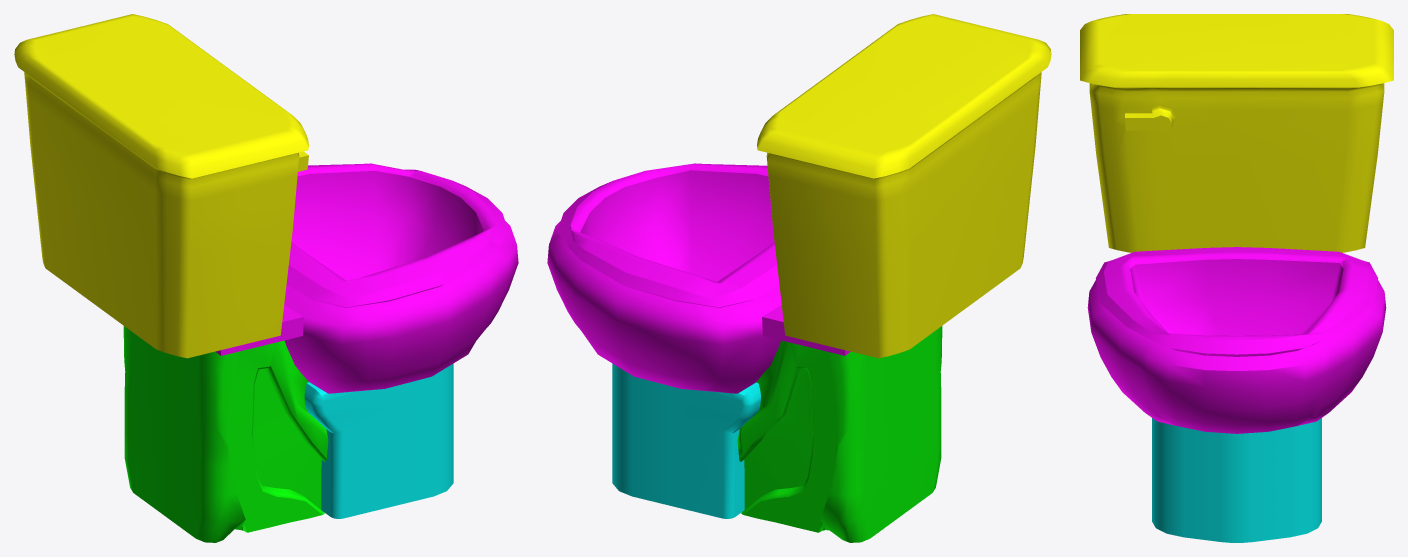
Rendered from King_Toilet.fbx.
The picture shows the model from 3 angles, left to right: view 1: azimuth 30°, elevation 25°; view 2: azimuth 150°, elevation 25°; view 3: azimuth 270°, elevation 25°; orthographic projection. The views are drawn at different scales.
Visible parts, largest first — view 1: Tank, Bowl, Backtubes2, Base; view 2: Tank, Bowl, Backtubes2, Base; view 3: Tank, Bowl, Base.
Part boxes in pixels (x1,y1,x2,y2): Tank: (14,14,308,358); Bowl: (215,163,518,393); Backtubes2: (123,326,328,542); Base: (304,363,453,518); Tank: (757,14,1051,358); Bowl: (547,163,850,393); Backtubes2: (737,326,942,542); Base: (612,363,760,518); Tank: (1080,14,1393,252); Bowl: (1087,247,1386,433); Base: (1152,418,1321,542).
Size of the model in its own units: 1.29 by 1.29 by 0.9606.
